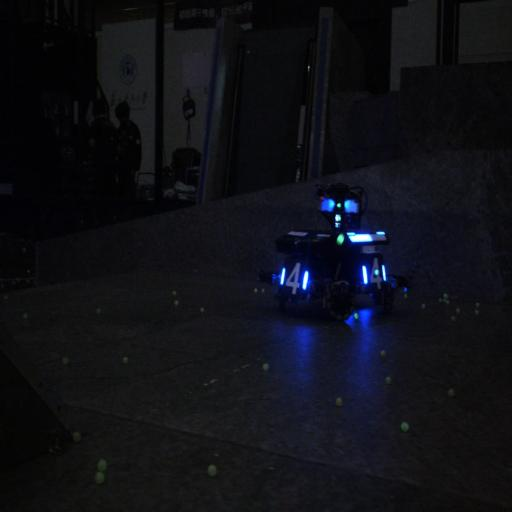target: (275, 253, 314, 307), (356, 248, 391, 306)
